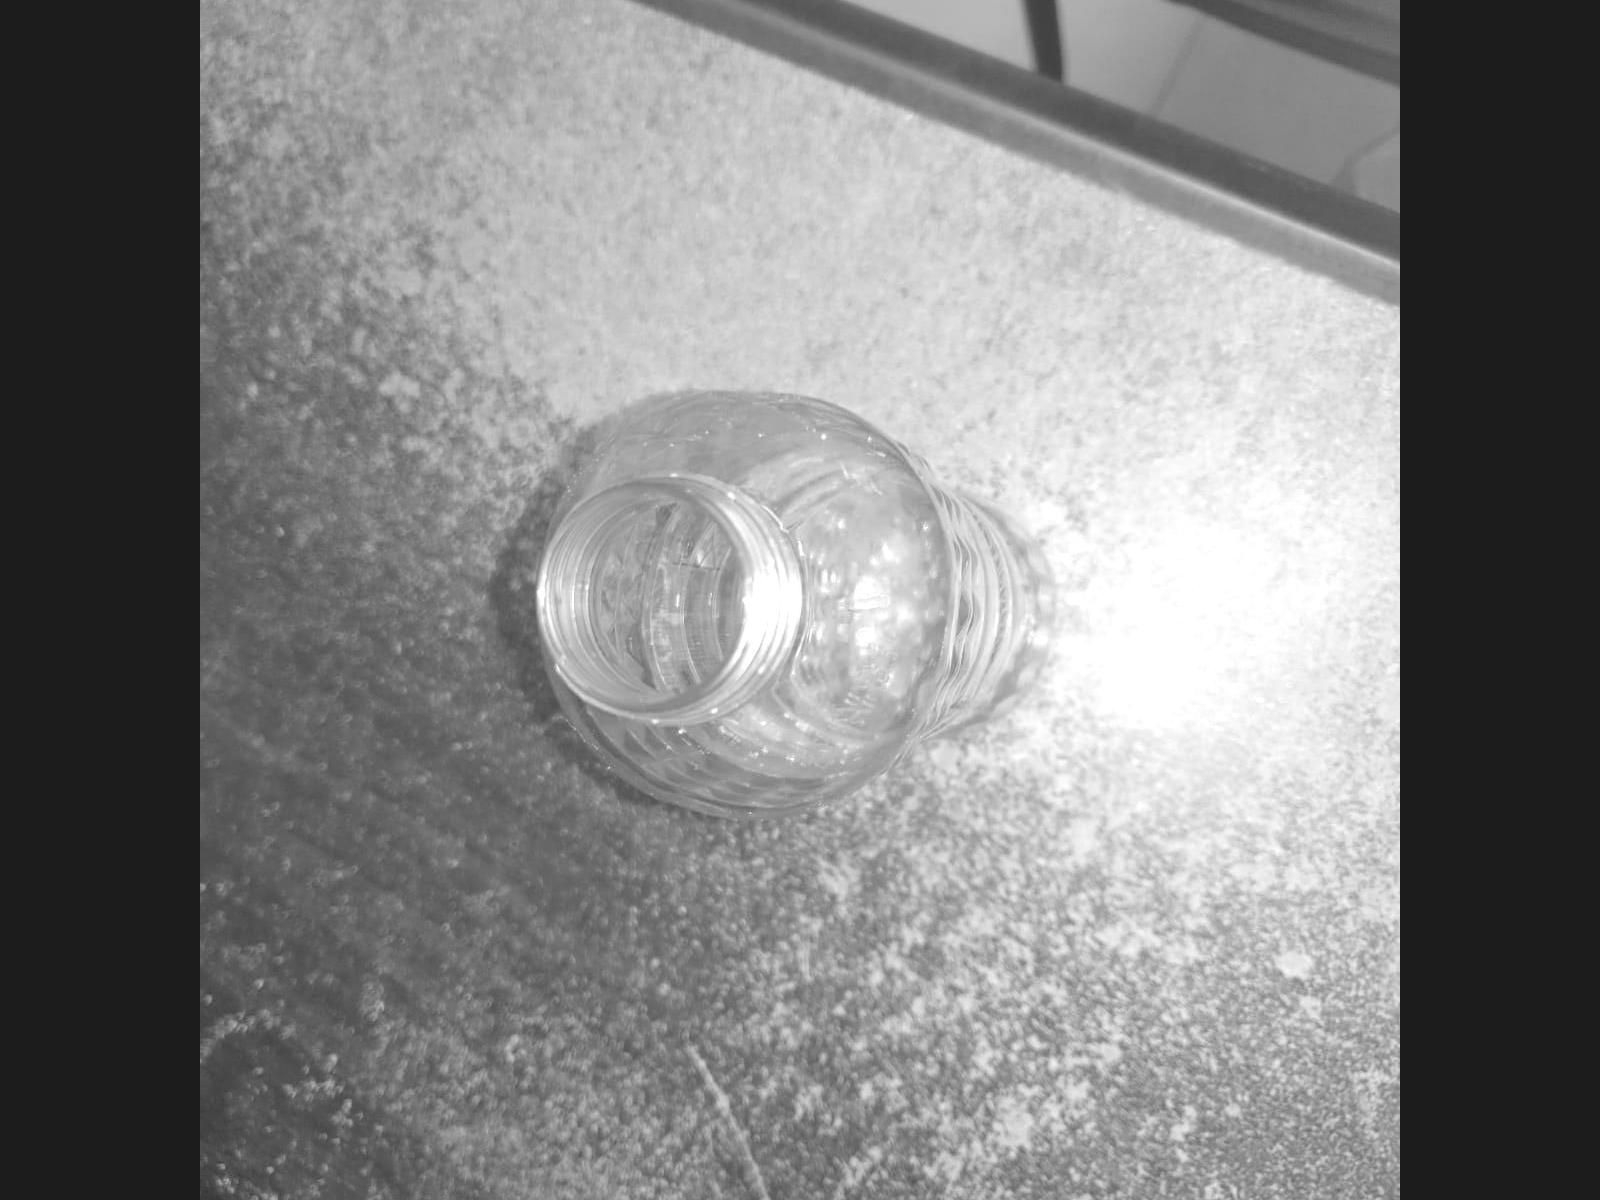bottle: (517, 370, 1048, 834)
